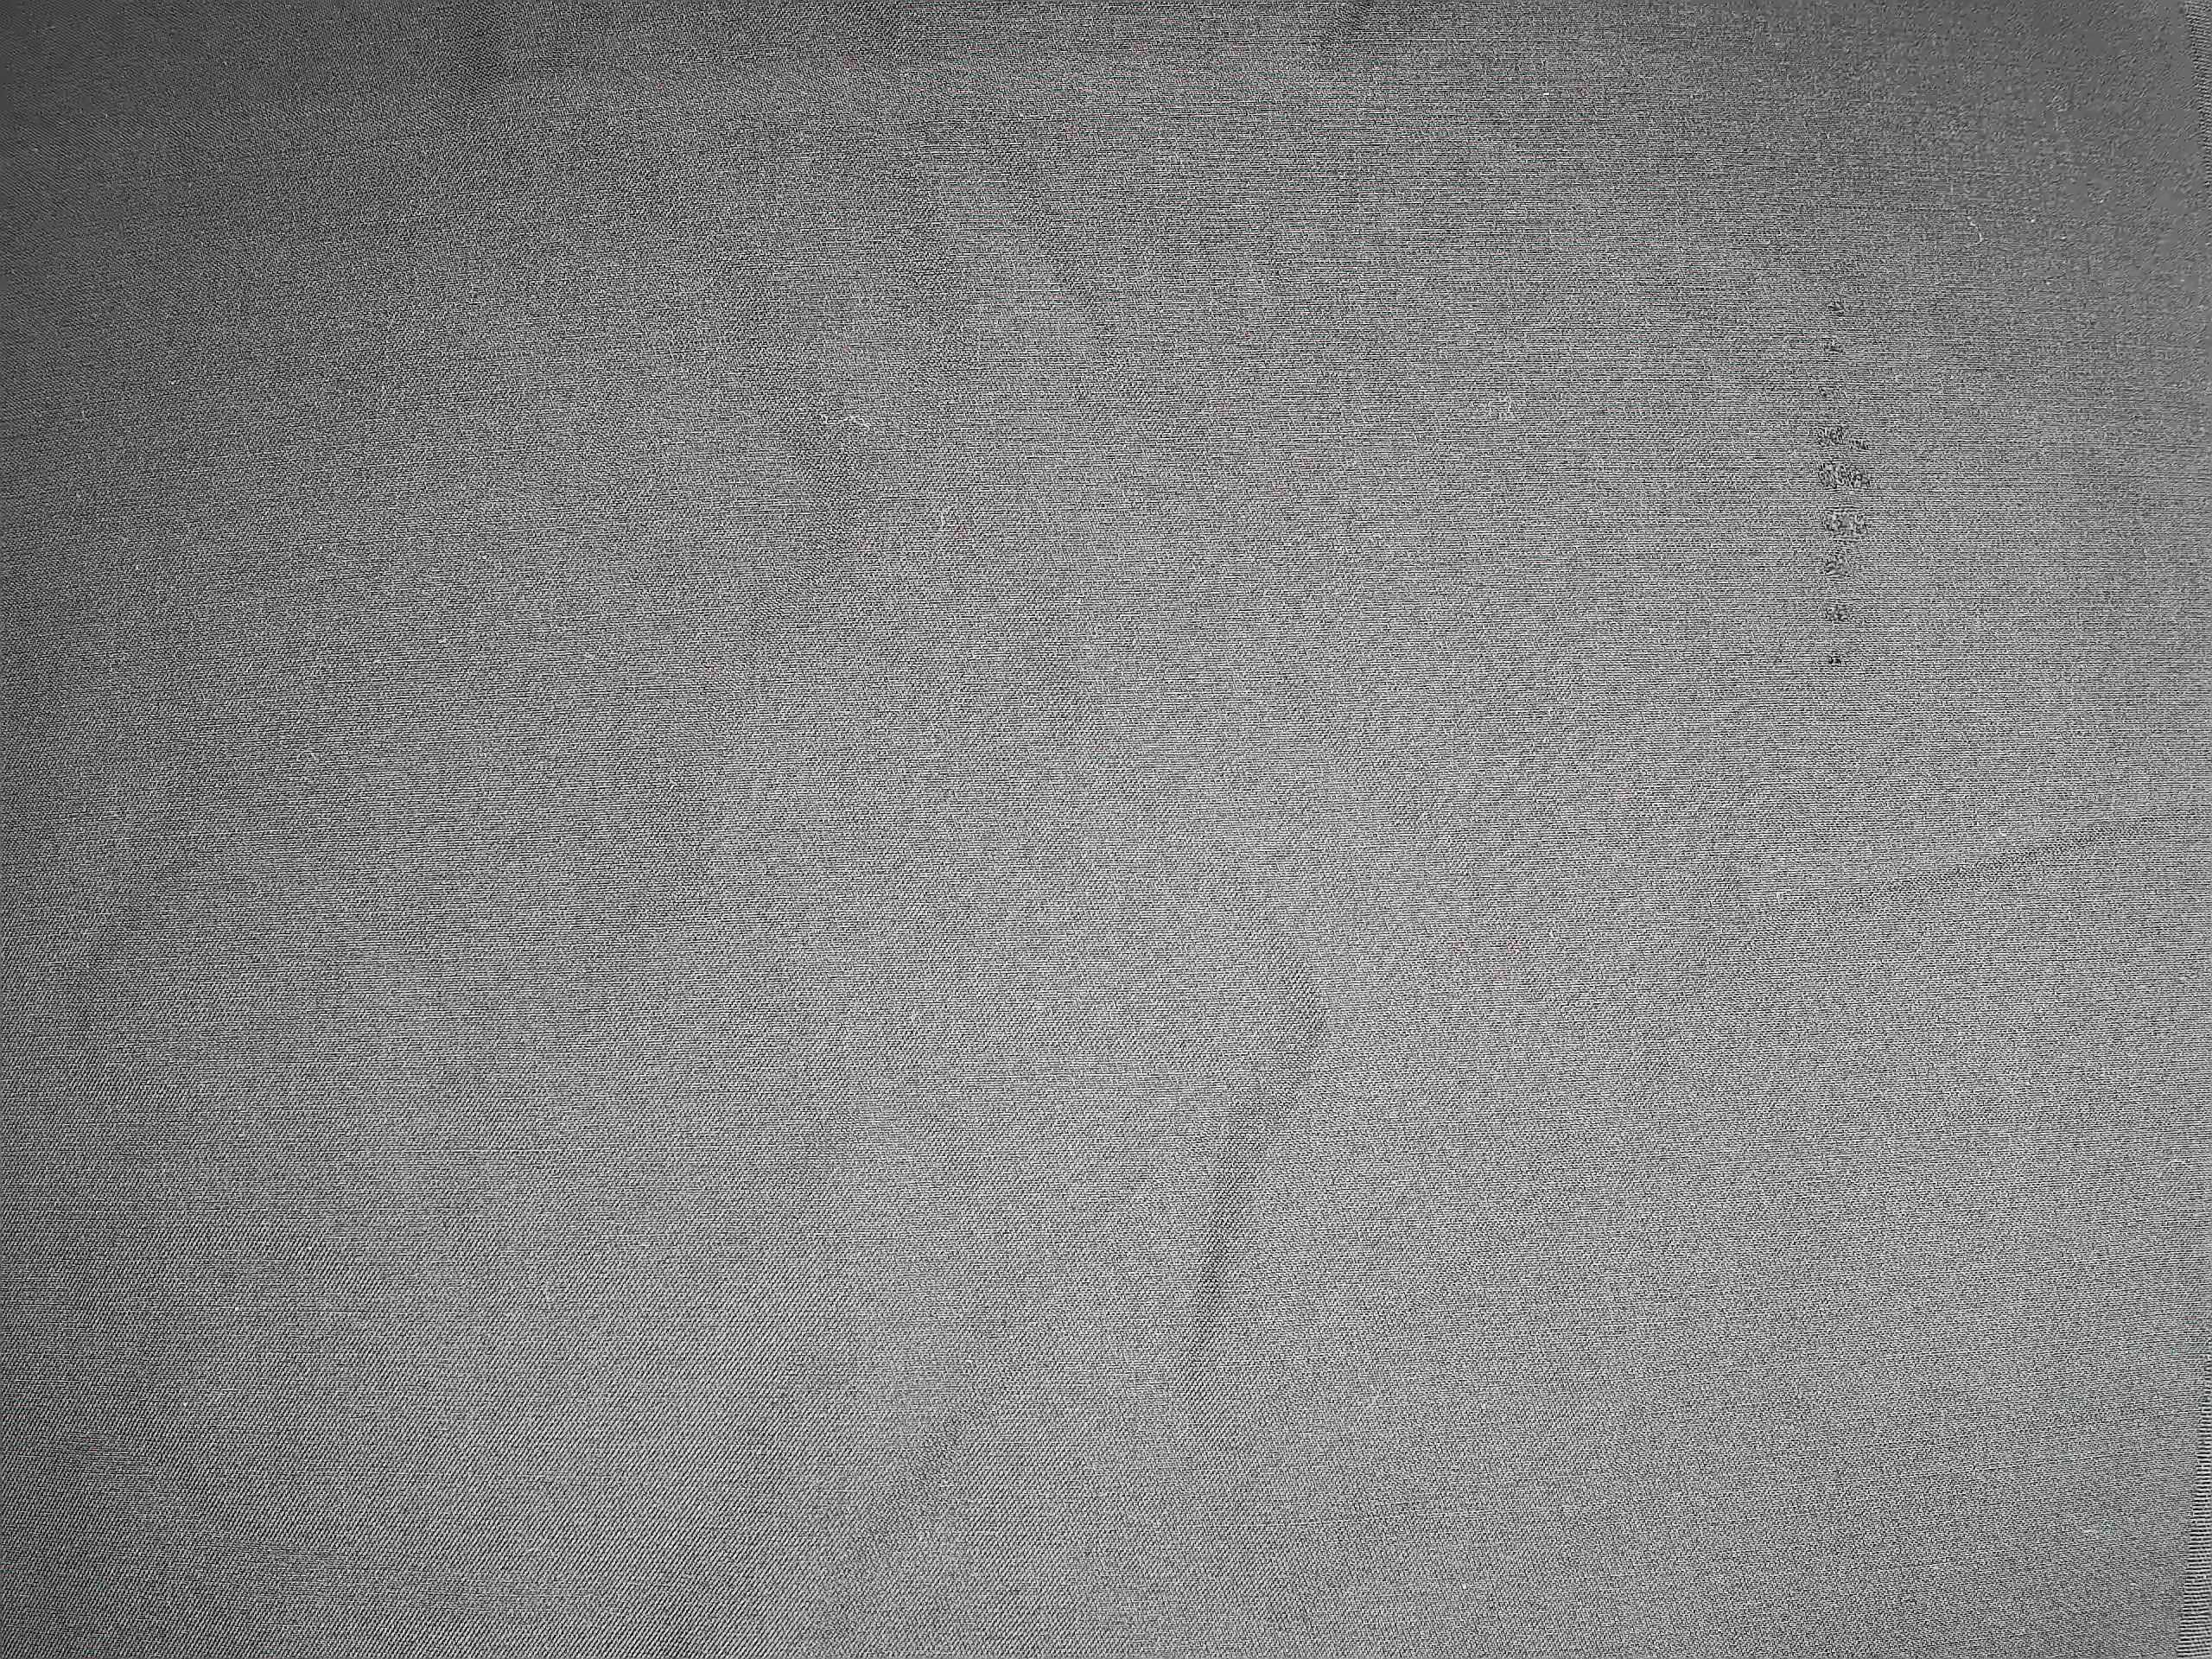puncture-hole: (1791, 239, 1898, 727)
